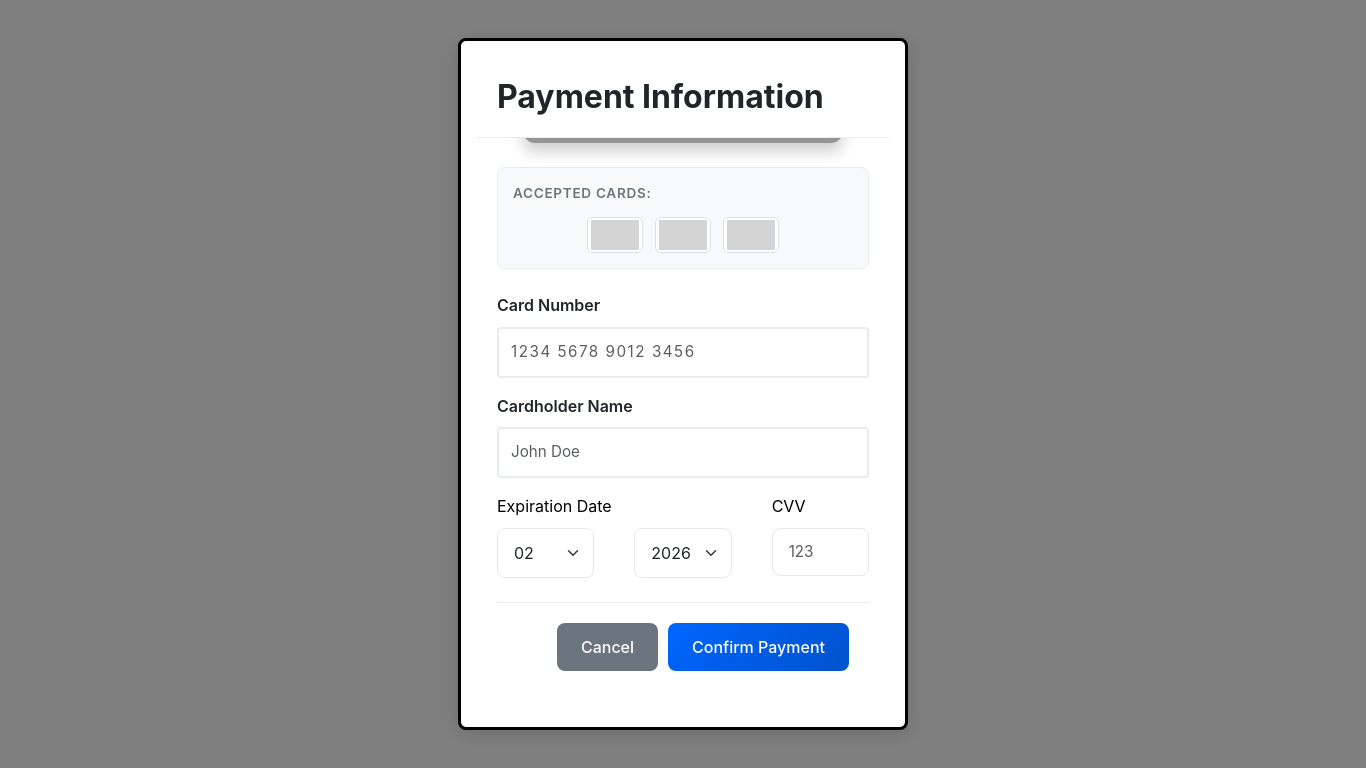
PaymentModal Component › handles CVV changes with length limit
(page scrolled)
Step 1. Type "12345" into the password field labelled "CVV" → (820,552), box [772,528,869,576]
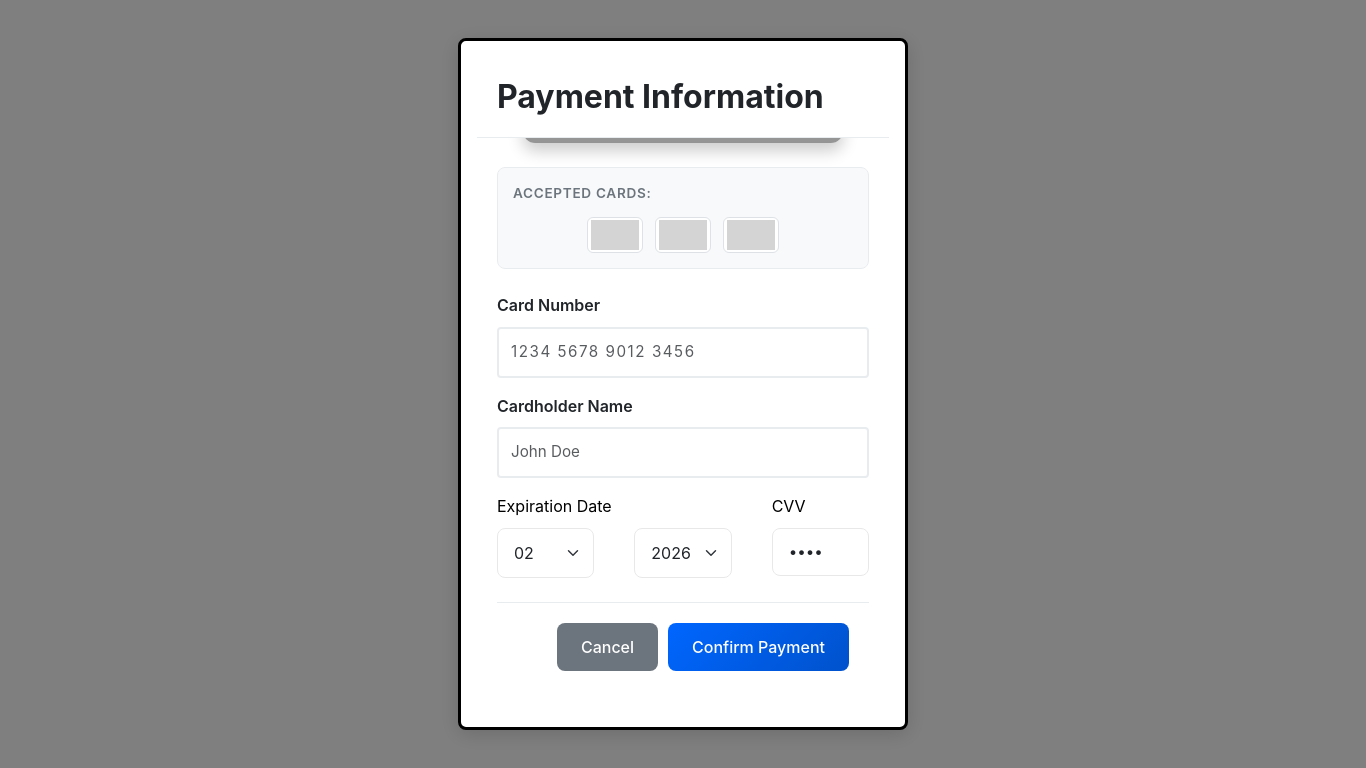
expect the password field labelled "CVV" holds "1234": met, box [772,528,869,576]
